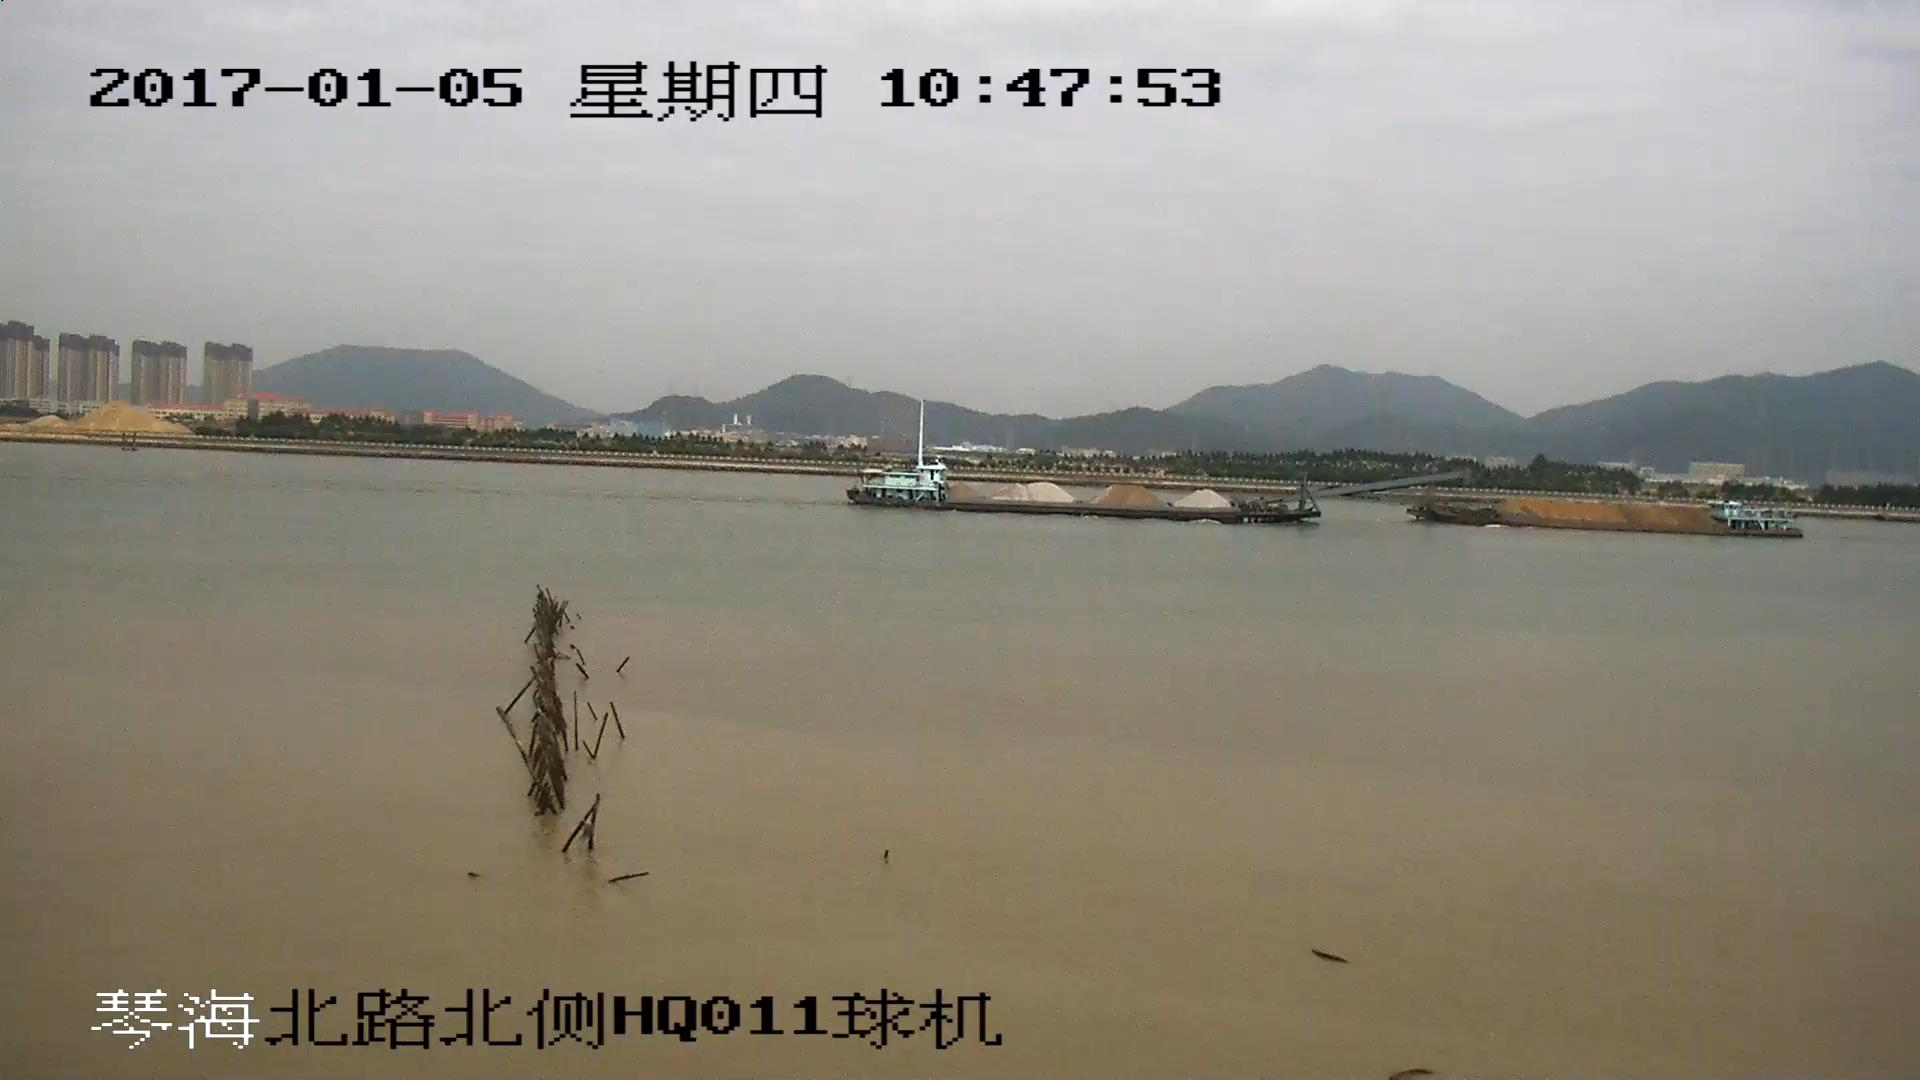ore carrier: (842, 404, 1466, 526), (1416, 488, 1796, 536)
